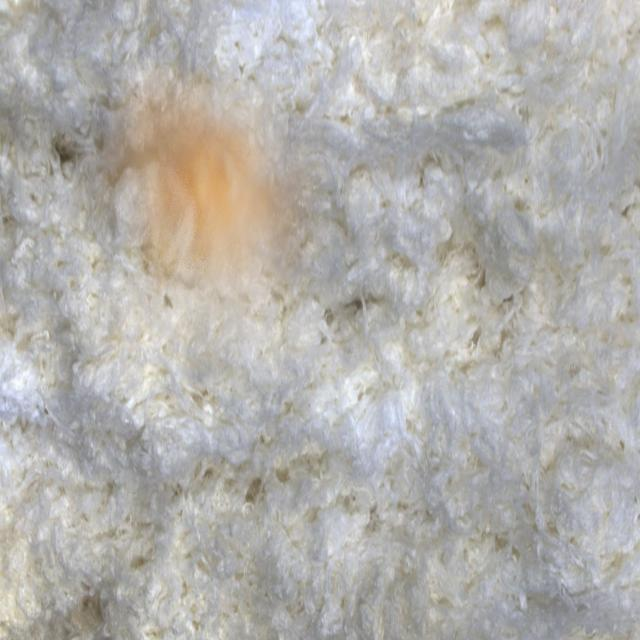dust: (73, 63, 328, 390)
